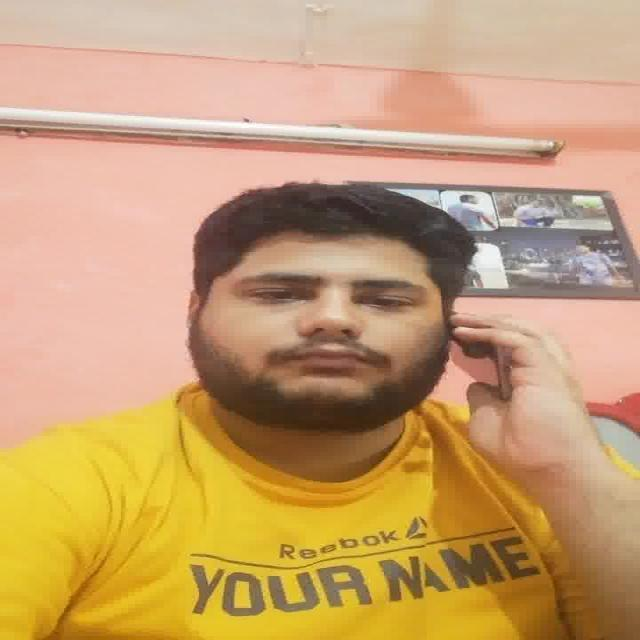Phone: (450, 315, 510, 403)
